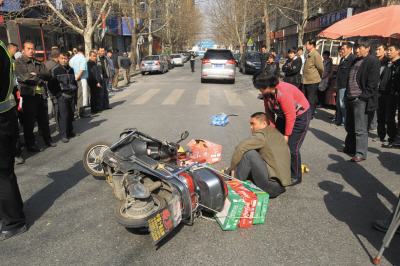10+: (1, 25, 399, 230)
down: (210, 109, 309, 201)
